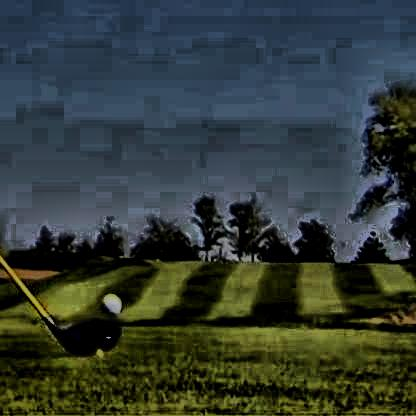golfball: (99, 291, 120, 313)
